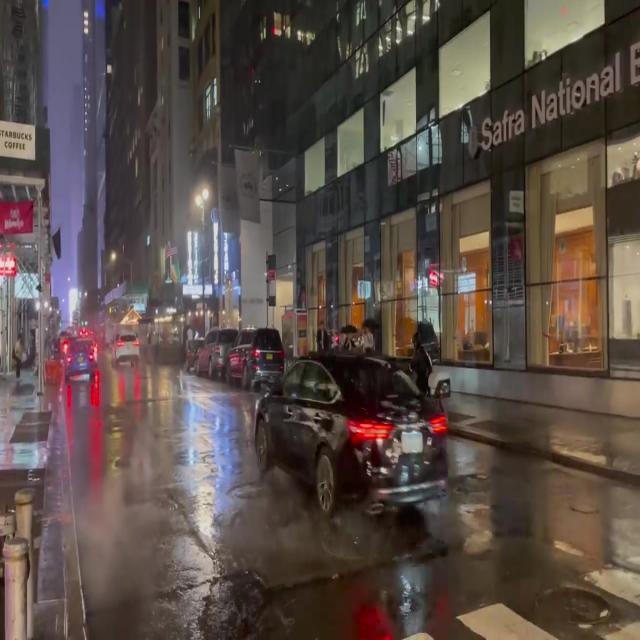Car: (252, 357, 441, 516), (229, 326, 282, 385), (192, 328, 230, 379)
